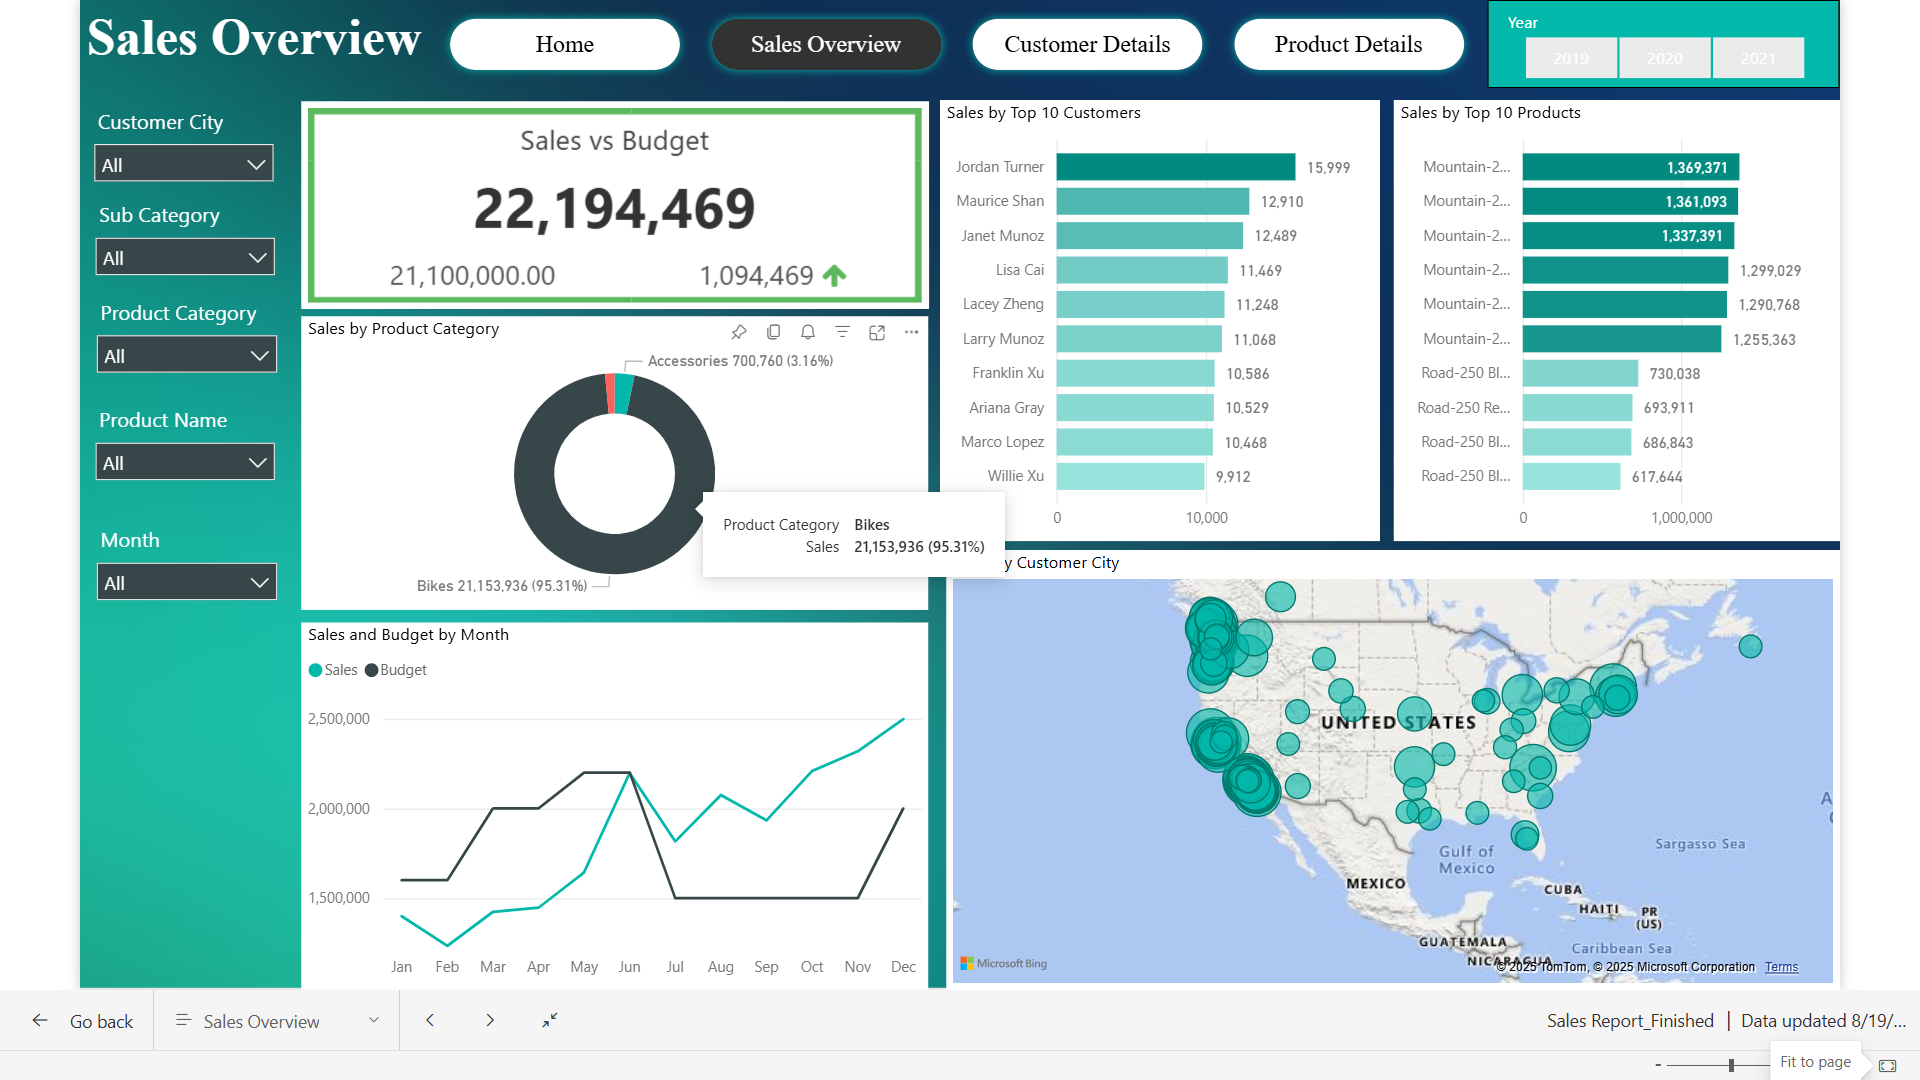

What the dashboard file says about the page in this screenshot:
{"tool":"powerbi","page":{"name":"Sales Overview","canvas":[1280,720],"ordinal":1},"visuals":[{"type":"textbox","box":[0,0,283.8,63.8],"z":0},{"type":"barChart","title":"Sales by Top 10 Products","fields":{"Category":["DIM_Products.Product Name"],"Y":["Analysis Metrics.Sales"]},"box":[955.2,73,324.8,321.1],"z":1000},{"type":"lineChart","fields":{"Category":["DIM_Calendar.MonthShort"],"Y":["Analysis Metrics.Sales","Analysis Metrics.Budget"]},"box":[160.7,452.8,456.3,267.2],"z":2000},{"type":"barChart","title":"Sales by Top 10 Customers","fields":{"Category":["DIM_Customers.Full Name"],"Y":["Analysis Metrics.Sales"]},"box":[625.9,73,320.2,321.1],"z":3000},{"type":"donutChart","fields":{"Y":["Analysis Metrics.Sales"],"Series":["DIM_Products.Product Category"]},"box":[160.6,229.9,456.2,213.5],"z":4000},{"type":"map","fields":{"Category":["DIM_Customers.Customer City"],"Size":["Analysis Metrics.Sales"]},"box":[630,400,650,320],"z":5000},{"type":"BBED0A4D4D8D44CE93CF2DAFADEE466C","fields":{"actual":["Analysis Metrics.Sales"],"target2":["Analysis Metrics.Sales / Budget"],"target1":["Analysis Metrics.Budget"]},"box":[160.5,73.4,456.6,151.3],"z":6000},{"type":"slicer","fields":{"Values":["DIM_Customers.Customer City"]},"box":[0,72.4,150.9,78.5],"z":7000},{"type":"slicer","fields":{"Values":["DIM_Products.Sub Category"]},"box":[1.2,141.1,150.9,78.5],"z":8000},{"type":"slicer","fields":{"Values":["DIM_Products.Product Category"]},"box":[1.4,211.4,151.4,78.6],"z":9000},{"type":"slicer","fields":{"Values":["DIM_Products.Product Name"]},"box":[1.2,289.6,150.9,81],"z":10000},{"type":"slicer","fields":{"Values":["DIM_Calendar.Year"]},"box":[1023.8,0,256.2,63.8],"z":11000},{"type":"slicer","fields":{"Values":["DIM_Calendar.Month"]},"box":[1.4,377.1,151.4,80],"z":12000},{"type":"pageNavigator","box":[262.5,7.5,753.8,50],"z":13000}]}

Visuals, with their boxes on the page's 1280x720 design canvas (x1, y1, x2, y2). These are canvas units, not pixel positions in the 1920x1080 screenshot, which may show the page scaled, cropped or inside an application window:
textbox: (left=0, top=0, right=284, bottom=64)
"Sales by Top 10 Products" barChart: (left=955, top=73, right=1280, bottom=394)
lineChart - DIM_Calendar.MonthShort x Analysis Metrics.Sales: (left=161, top=453, right=617, bottom=720)
"Sales by Top 10 Customers" barChart: (left=626, top=73, right=946, bottom=394)
donutChart - Analysis Metrics.Sales x DIM_Products.Product Category: (left=161, top=230, right=617, bottom=443)
map - DIM_Customers.Customer City x Analysis Metrics.Sales: (left=630, top=400, right=1280, bottom=720)
BBED0A4D4D8D44CE93CF2DAFADEE466C - Analysis Metrics.Sales x Analysis Metrics.Sales / Budget: (left=160, top=73, right=617, bottom=225)
slicer - DIM_Customers.Customer City: (left=0, top=72, right=151, bottom=151)
slicer - DIM_Products.Sub Category: (left=1, top=141, right=152, bottom=220)
slicer - DIM_Products.Product Category: (left=1, top=211, right=153, bottom=290)
slicer - DIM_Products.Product Name: (left=1, top=290, right=152, bottom=371)
slicer - DIM_Calendar.Year: (left=1024, top=0, right=1280, bottom=64)
slicer - DIM_Calendar.Month: (left=1, top=377, right=153, bottom=457)
pageNavigator: (left=262, top=8, right=1016, bottom=58)
